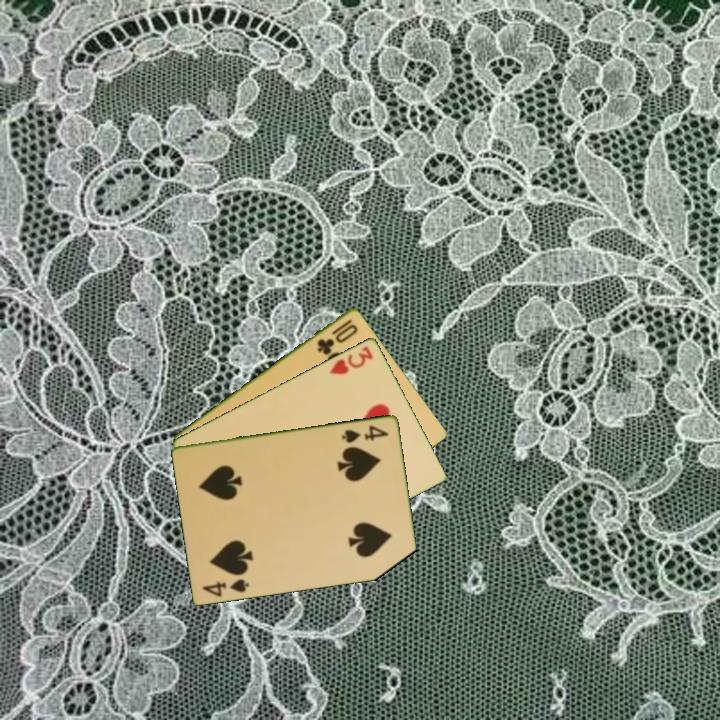10c: (313, 315, 361, 357)
3h: (326, 342, 376, 377)
4s: (338, 421, 392, 445), (199, 575, 252, 599)
